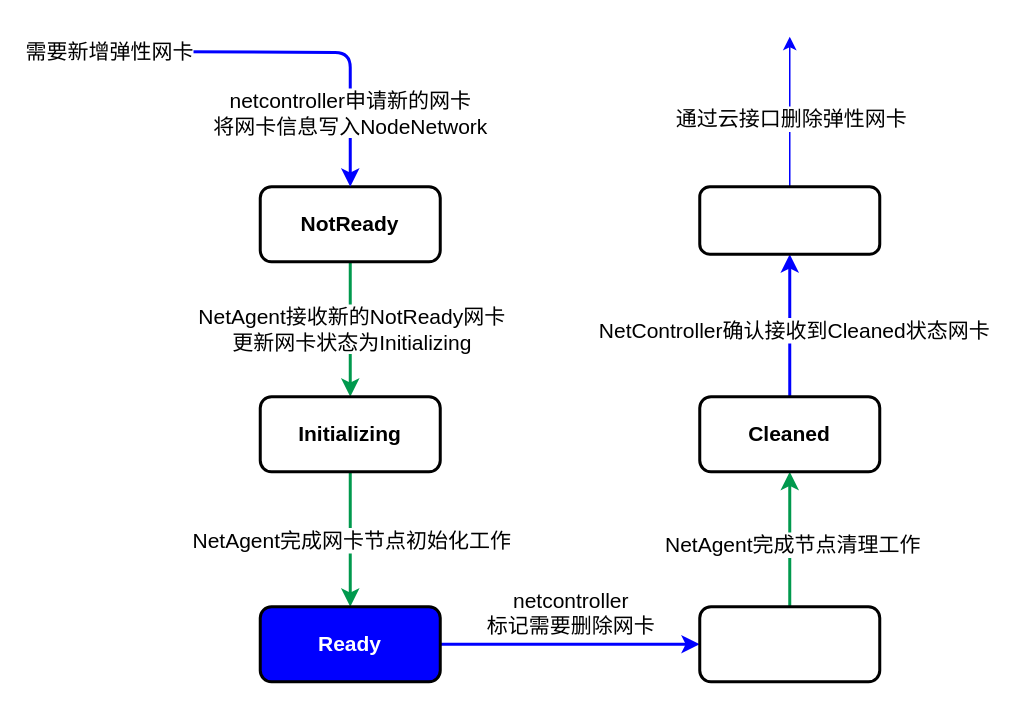
The diagram is 1014 pixels wide and 710 high, and some of its shapes have lost their labels. The shapes that lost their labels are listed below. From the top down, each one's centre as x and y in pixels, then its label:
At [789,219]: "Deleting".
At [789,643]: "Cleaning".
